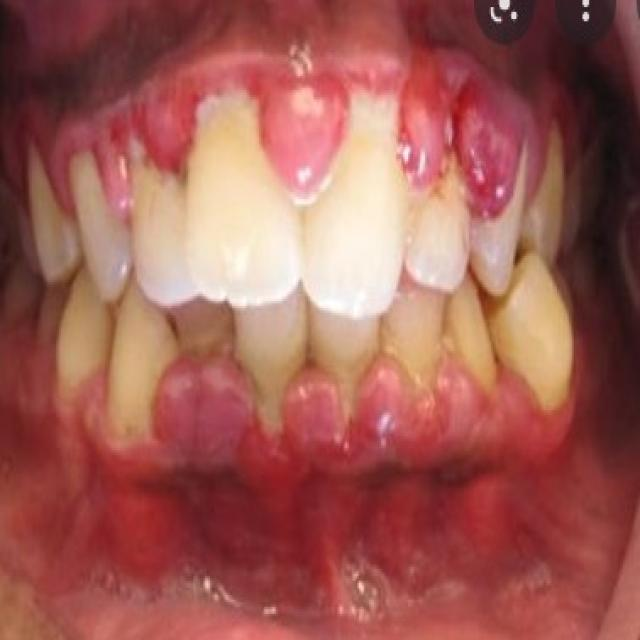Gingivitis: (158, 456, 510, 568), (265, 65, 343, 184), (453, 74, 519, 190)
